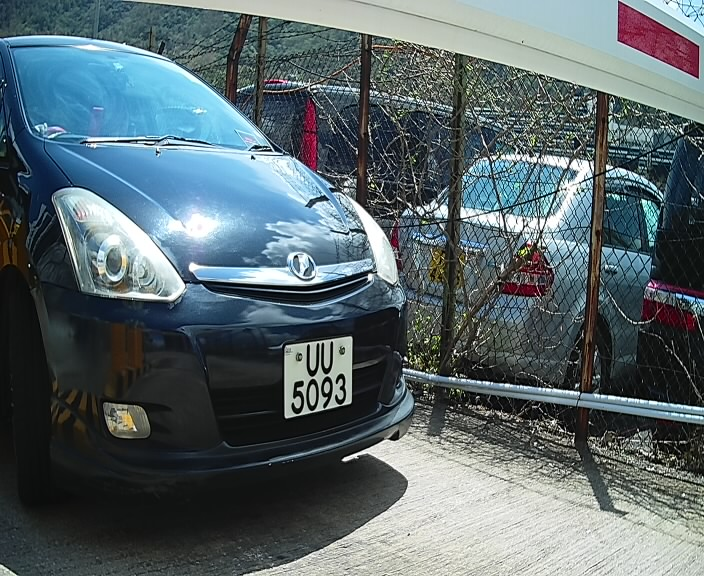License Plate: (263, 323, 370, 428)
